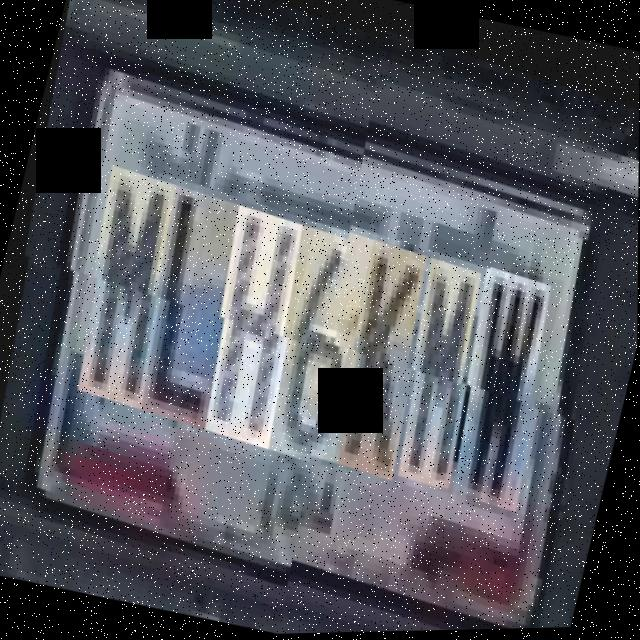6: (253, 220, 386, 465)
H: (189, 201, 317, 445)
K: (322, 241, 441, 481)
L: (125, 183, 253, 426)
M: (62, 164, 190, 408), (382, 258, 495, 491)
W: (437, 267, 564, 510)
